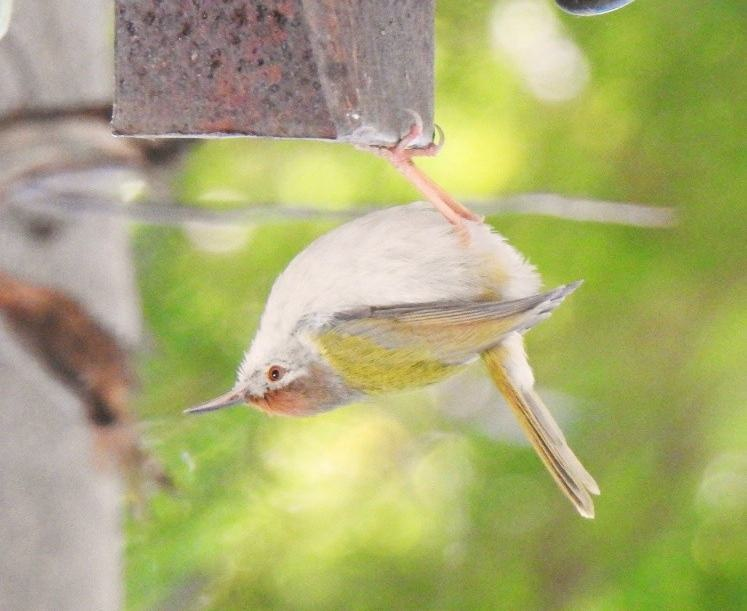tailorbird: (172, 131, 628, 541)
